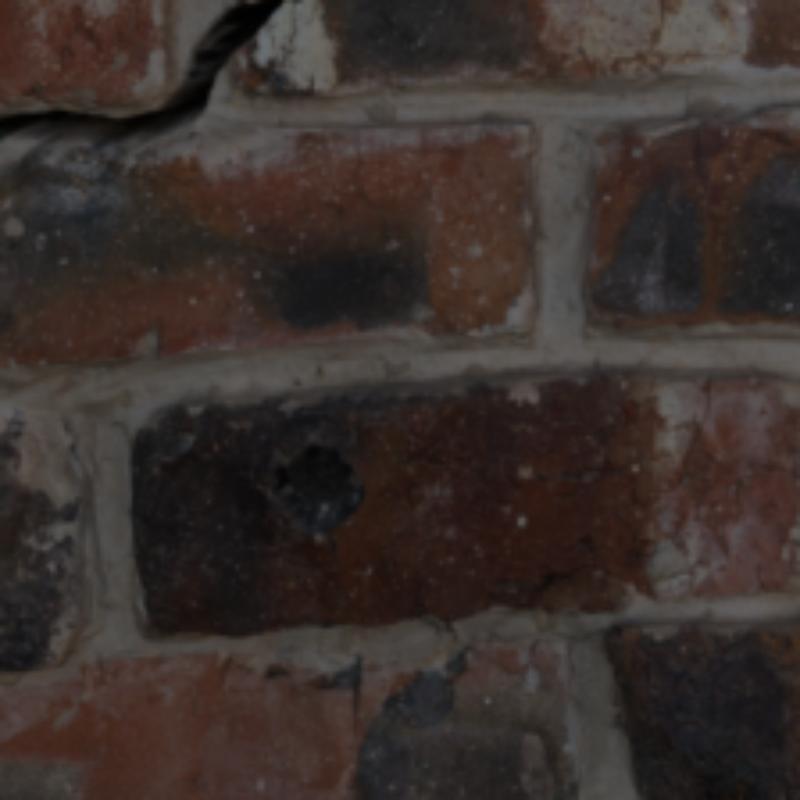pothole: (0, 0, 279, 150)
